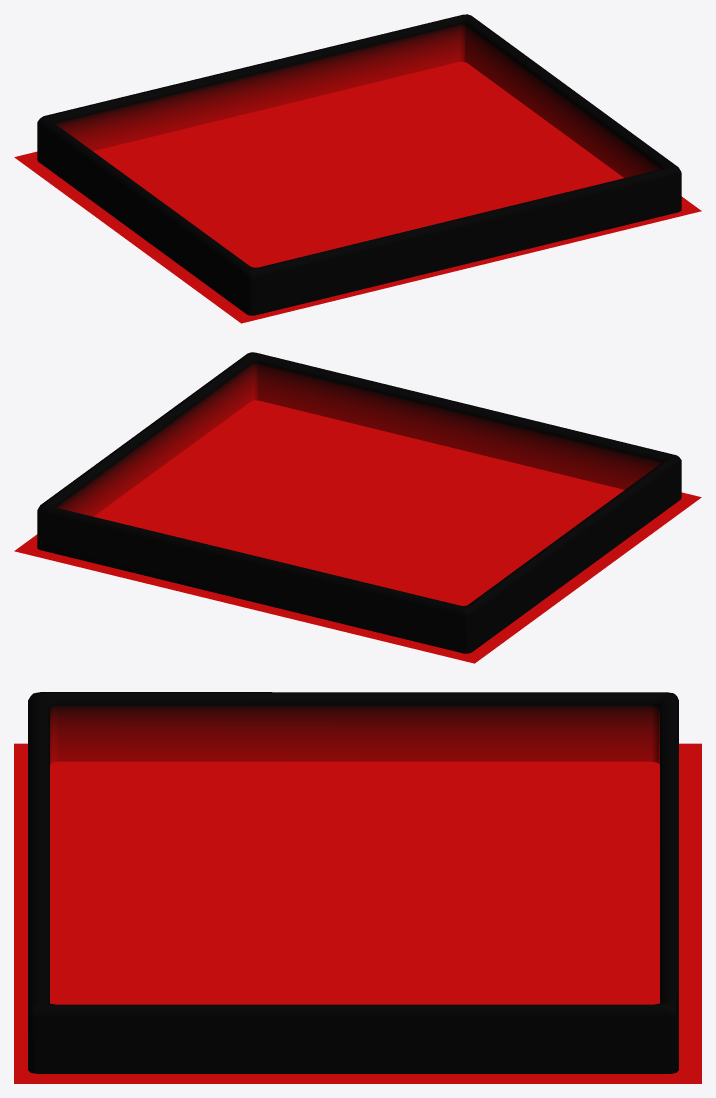
The model's file is SM_Pool_Pool_H.fbx.
The picture shows the model from 3 angles, top to bottom: view 1: azimuth 30°, elevation 25°; view 2: azimuth 150°, elevation 25°; view 3: azimuth 270°, elevation 25°; orthographic projection. The views are drawn at different scales.
Parts seen in each view (by area): view 1: pPlane2; view 2: pPlane2; view 3: pPlane2.
Part boxes in pixels (left/top/right/bottom): pPlane2: left=14, top=14, right=701, bottom=323; pPlane2: left=14, top=352, right=701, bottom=663; pPlane2: left=14, top=692, right=701, bottom=1083.
Size of the model in its own units: 448 by 39.78 by 383.
